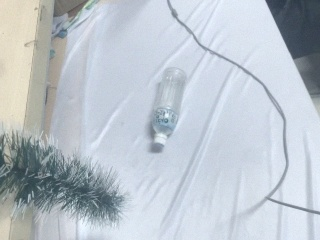bottle: (149, 67, 185, 147)
